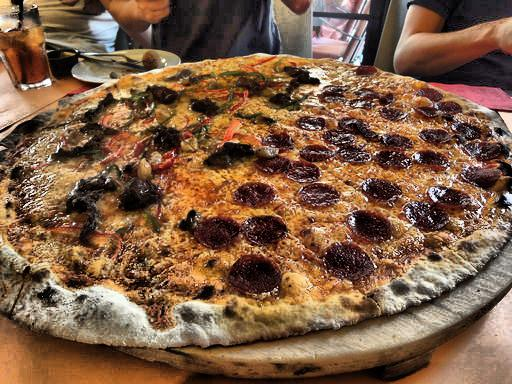pizza: (9, 72, 504, 309)
